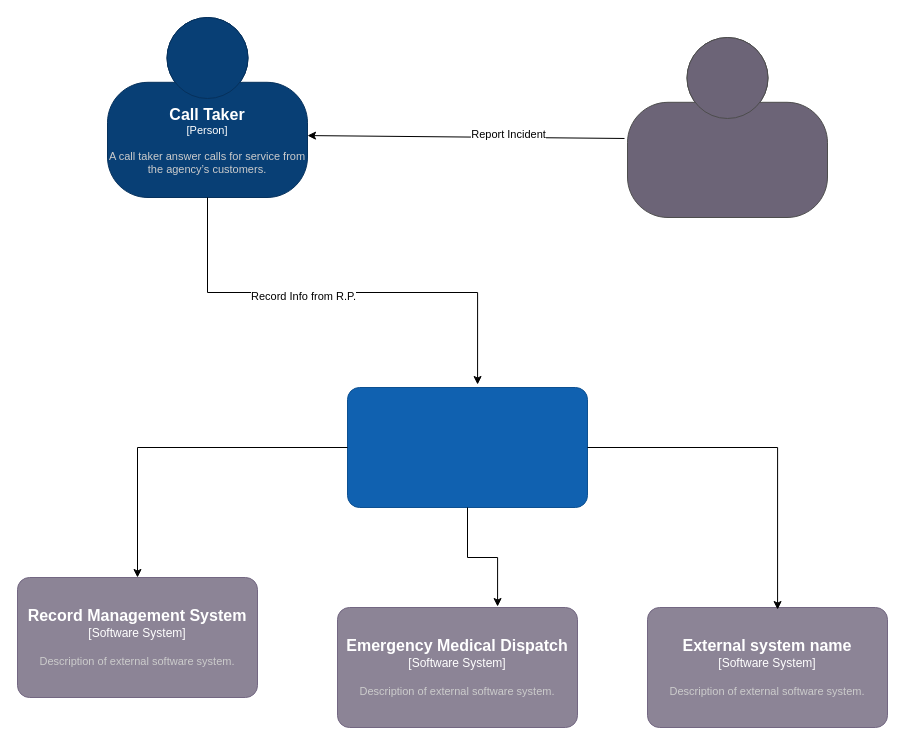
Some shapes in this 905 by 745 pixel diagram are drawn without their labels. Each missing label, with the centre of its shape:
C.A.D [Software System] Description of software system.: point (467, 447)
Reporting Party [Person] An individual reporting an incident.: point (727, 127)
